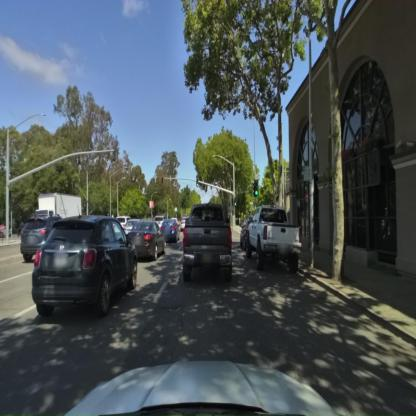car: (32, 217, 139, 318), (20, 217, 63, 265), (124, 219, 167, 262), (240, 213, 252, 251), (160, 220, 179, 244)
truck: (181, 205, 233, 285), (244, 206, 303, 274), (38, 194, 82, 222)
